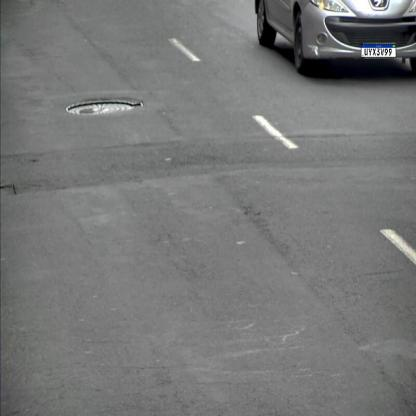PlacaM: (361, 44, 396, 58)
